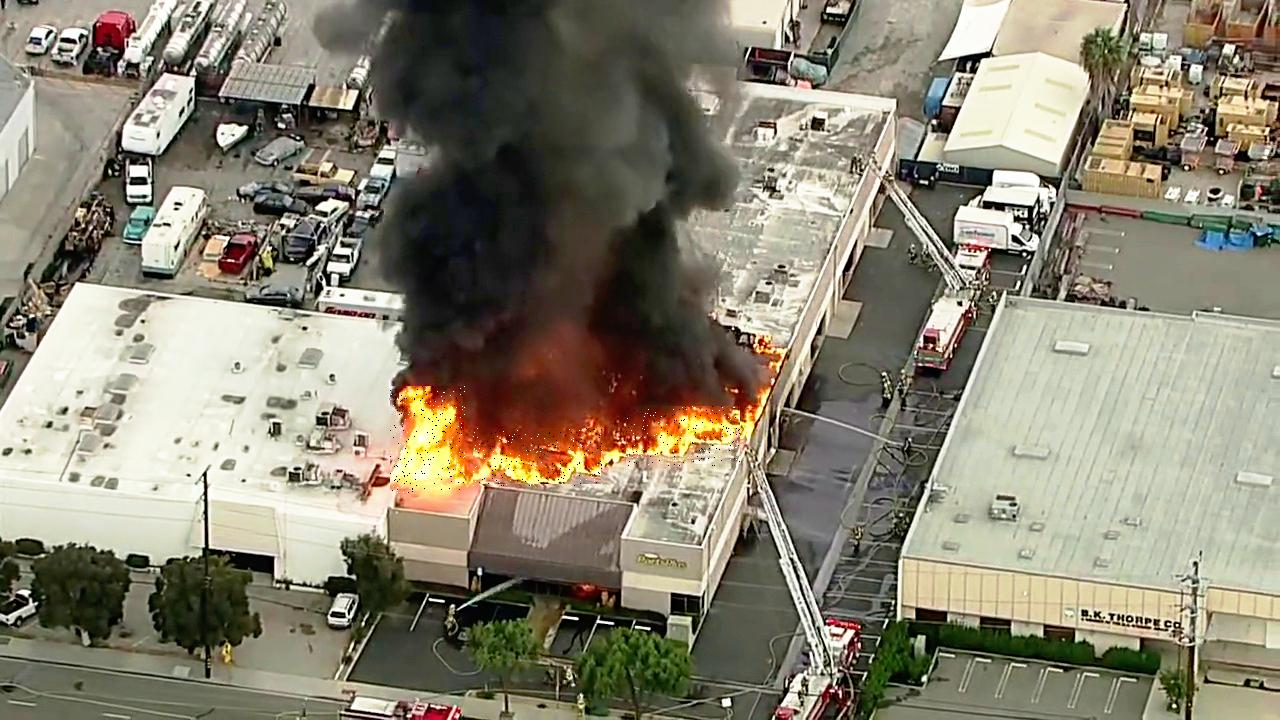fire: (390, 387, 465, 494), (474, 429, 604, 487), (626, 407, 740, 467)
